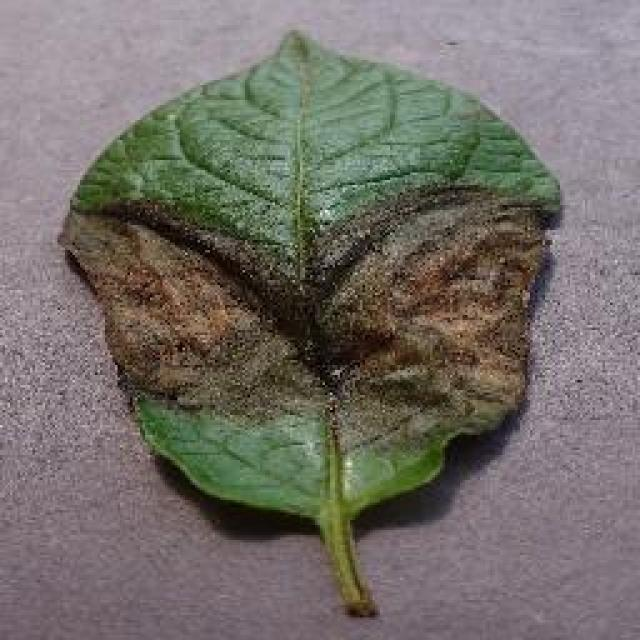late_blight: (53, 25, 565, 617)
